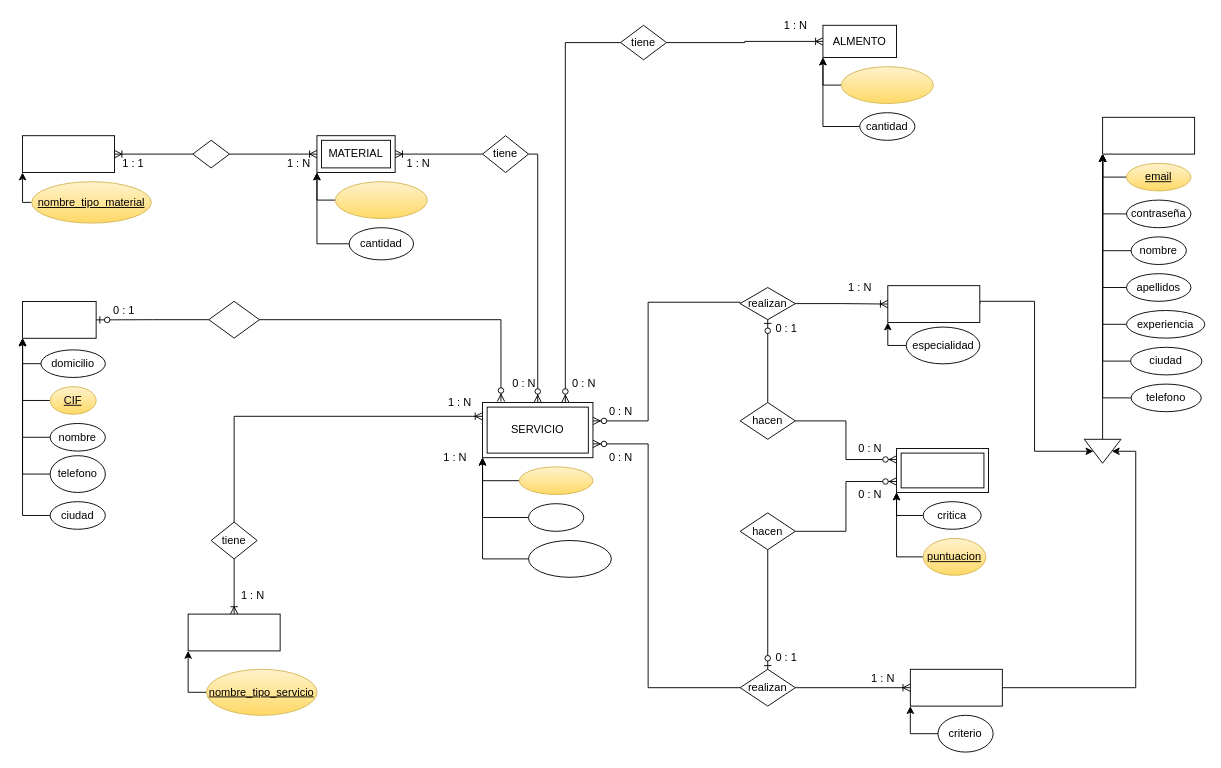
Some shapes in this 1221 by 768 pixel diagram are drawn without their labels. The shapes that lost their labels are listed below. From the top down, each one's box as (x1, y1, x2, y2) in pixels, then its label:
(840, 66, 933, 104): nombre_alimento
(22, 135, 115, 172): TIPO_MATERIAL
(192, 139, 230, 168): es
(1102, 116, 1195, 154): PERSONA
(334, 181, 427, 218): nombre_material
(22, 301, 96, 338): EMPRESA
(208, 300, 259, 338): hace
(887, 285, 980, 322): COCINERO
(518, 466, 593, 494): id_servicio
(896, 448, 989, 492): OPINION
(528, 503, 584, 531): fecha
(528, 540, 611, 577): tiempo_servicio
(187, 613, 280, 651): TIPO_SERVICIO
(909, 668, 1002, 706): CATADOR
